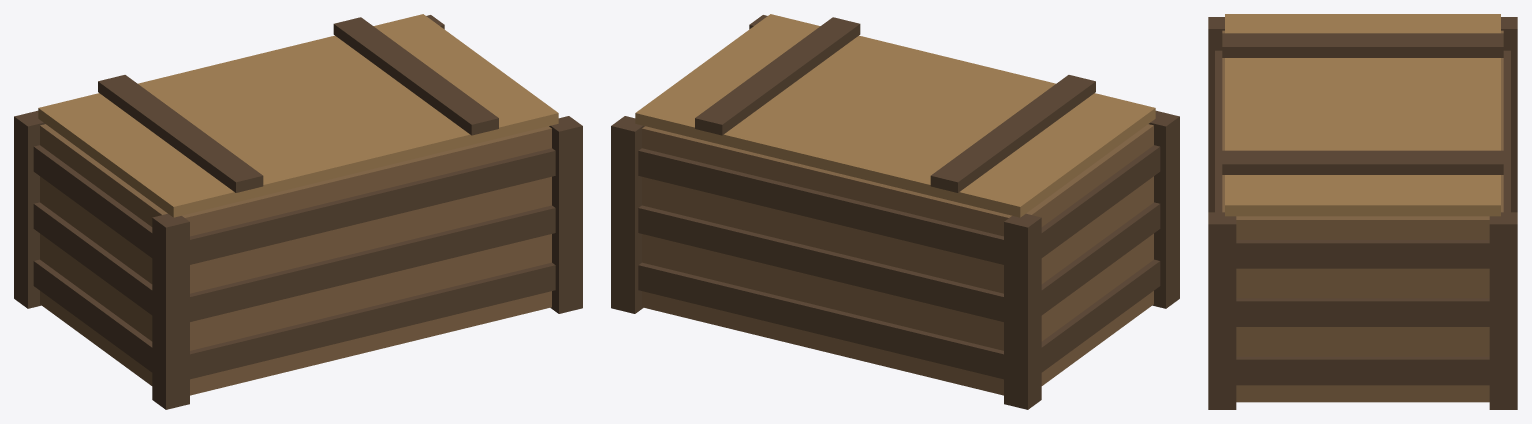
The model's file is decorativos-cajon-b.glb.
3 renders of one model, left to right at view 1: azimuth 30°, elevation 25°; view 2: azimuth 150°, elevation 25°; view 3: azimuth 270°, elevation 25°, orthographic.
Parts seen in each view (by area): view 1: cajon_b_MaderaOscura, cajon_b_MaderaClara, cajon_b_Madera; view 2: cajon_b_MaderaOscura, cajon_b_MaderaClara, cajon_b_Madera; view 3: cajon_b_MaderaOscura, cajon_b_MaderaClara, cajon_b_Madera.
Boxes of the visible parts, x1,y1,x2,y2 form: cajon_b_MaderaOscura: [14, 15, 582, 409]; cajon_b_MaderaClara: [38, 14, 558, 217]; cajon_b_Madera: [40, 124, 551, 395]; cajon_b_MaderaOscura: [611, 15, 1179, 409]; cajon_b_MaderaClara: [635, 14, 1155, 217]; cajon_b_Madera: [642, 124, 1153, 395]; cajon_b_MaderaOscura: [1208, 17, 1517, 409]; cajon_b_MaderaClara: [1225, 14, 1500, 216]; cajon_b_Madera: [1222, 30, 1503, 402].
Bounding box in the file's own units: 1.22 × 0.57 × 0.77.
